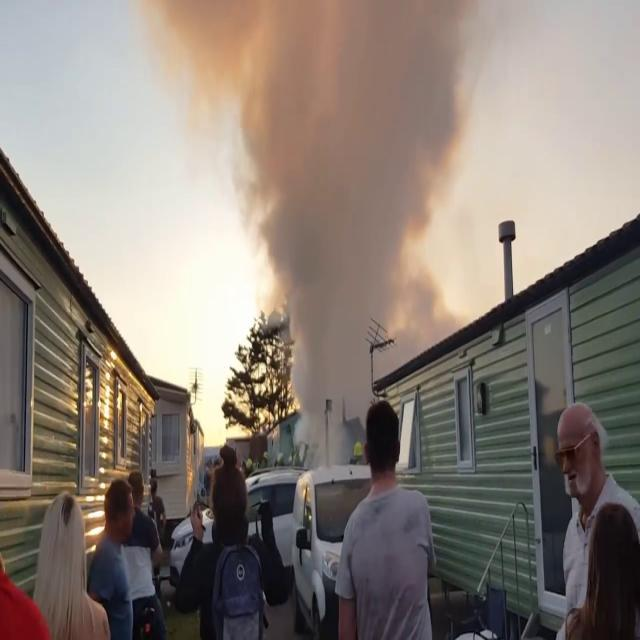Smoke: (180, 0, 492, 342)
